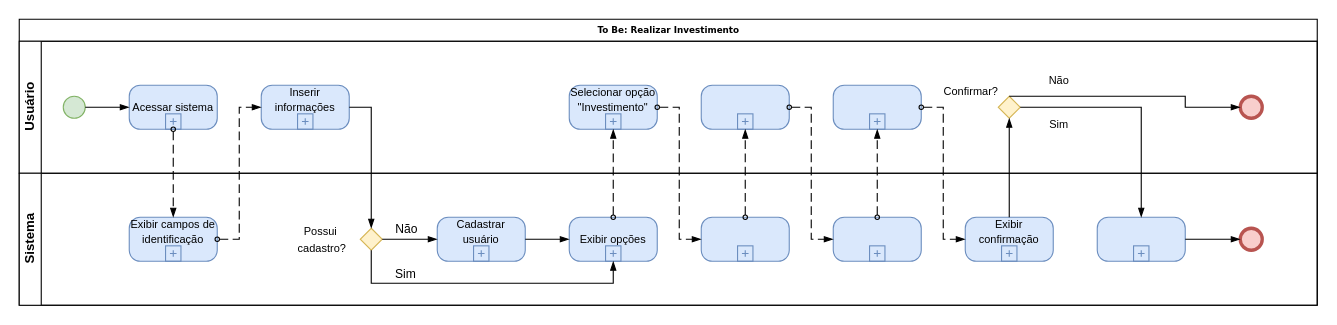
This 1337x325 diagram has some shape labels left out. The shapes that lost their labels are listed below. From the top down, each one's centre as x and y in pixels, then its label:
At pixel 744 106: "Escolher tipo de investimento".
At pixel 876 106: "Escolher características".
At pixel 744 238: "Exibir tipos de investimento".
At pixel 876 238: "Gerar relatório do tipo".
At pixel 1140 238: "Exibir comprovante".
